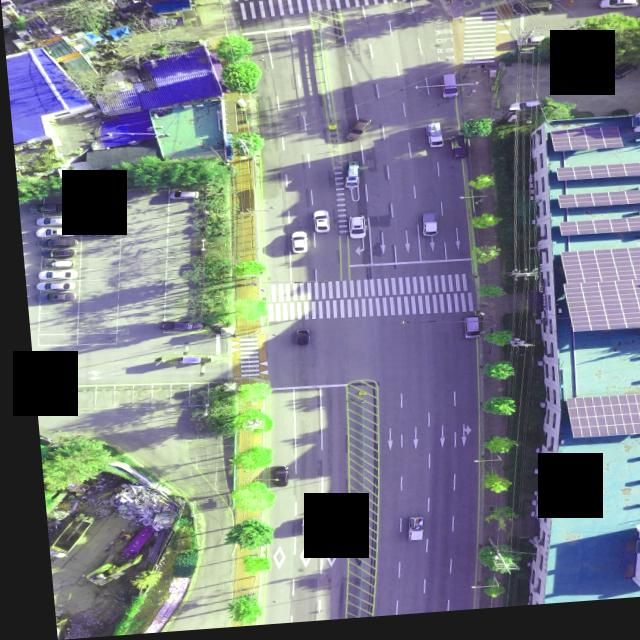car: (602, 68, 637, 90), (341, 123, 368, 145), (508, 9, 549, 23), (76, 228, 115, 241), (75, 215, 117, 227), (434, 81, 454, 106), (597, 7, 636, 19), (261, 468, 281, 491), (160, 323, 197, 335), (31, 271, 71, 282), (341, 220, 359, 244), (28, 203, 67, 214), (30, 228, 69, 239), (31, 215, 70, 226), (32, 291, 70, 302), (453, 321, 471, 344), (505, 107, 539, 119), (31, 281, 69, 291), (285, 237, 302, 259), (306, 215, 323, 237), (287, 520, 305, 539), (36, 238, 70, 248), (166, 191, 196, 202), (37, 248, 69, 258), (38, 260, 68, 270), (287, 333, 304, 350), (514, 44, 542, 53)
small_truck: (145, 16, 184, 31), (337, 168, 357, 194), (394, 521, 414, 546), (413, 218, 433, 242), (421, 129, 440, 154), (446, 143, 464, 166)
